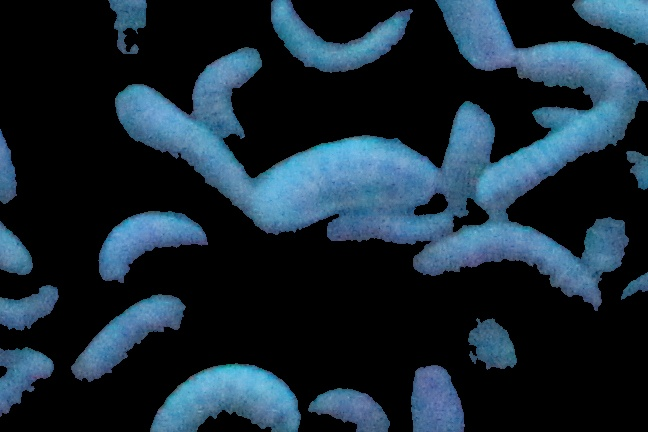larvae: (250, 138, 438, 243), (480, 95, 635, 221), (415, 221, 605, 313), (120, 91, 249, 211), (70, 293, 189, 382), (512, 36, 645, 107), (154, 367, 296, 432), (269, 10, 406, 73), (98, 205, 201, 283), (439, 97, 506, 213), (450, 290, 525, 383), (192, 48, 262, 144), (438, 1, 511, 75), (405, 360, 471, 432), (323, 210, 435, 251), (306, 380, 392, 432), (1, 278, 74, 336), (1, 346, 53, 417), (565, 2, 648, 41), (111, 1, 159, 54), (1, 218, 34, 275)
